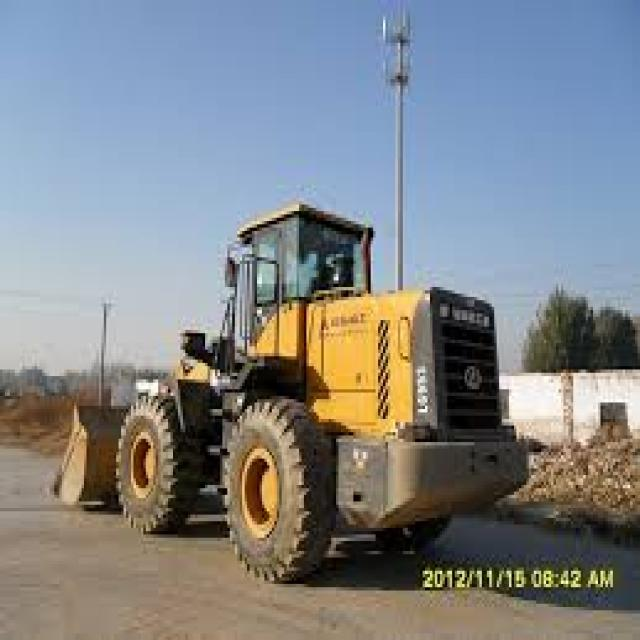buldozerpayloadergrader: (42, 197, 527, 585)
